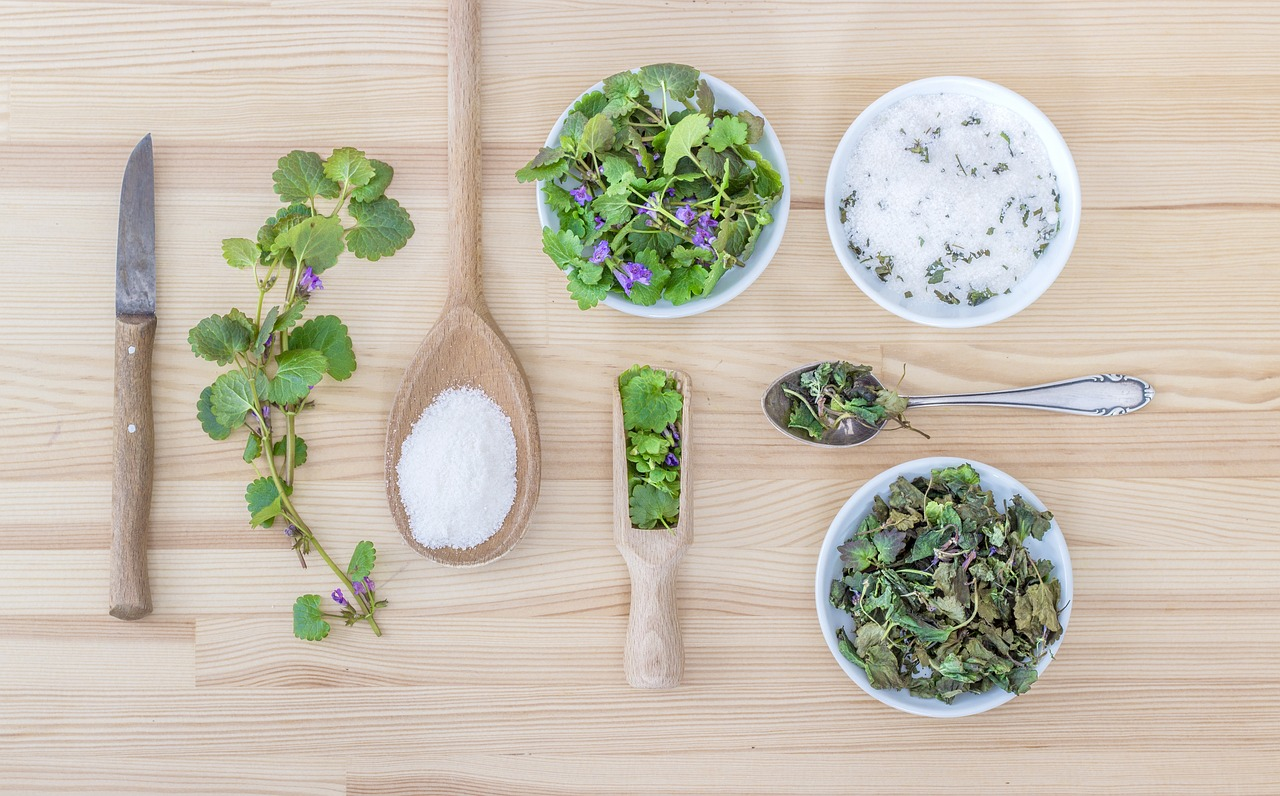knife: (109, 125, 158, 630)
